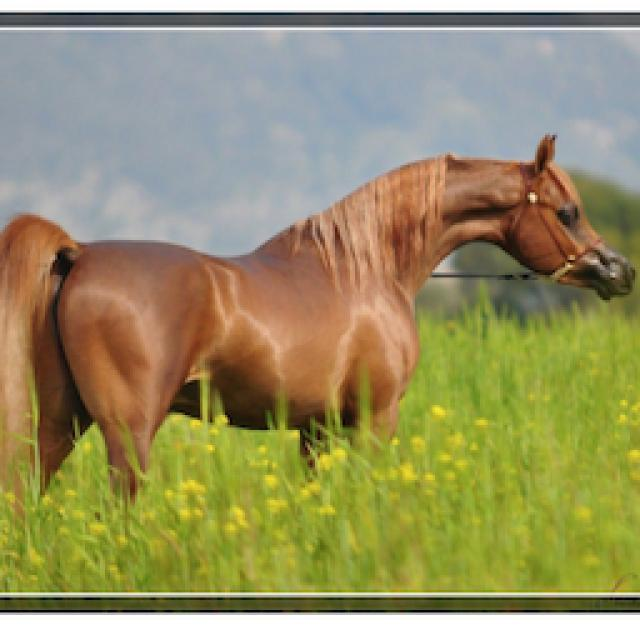Horse: (0, 128, 638, 520)
